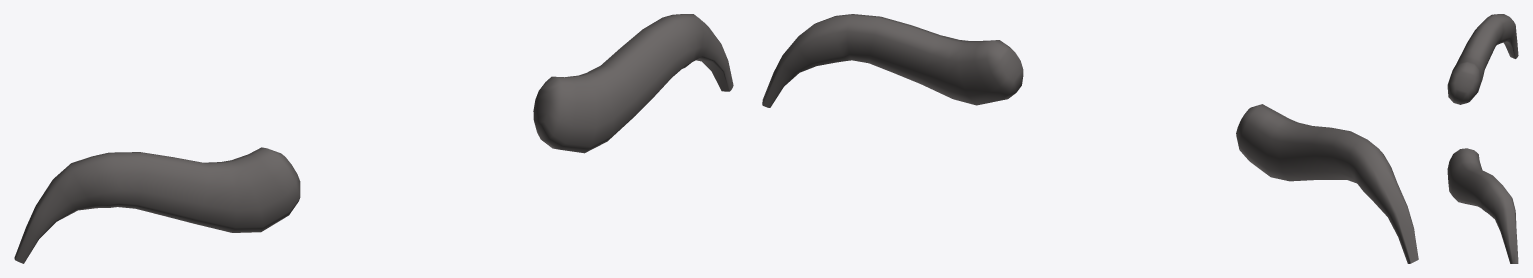
The model's file is Eyebrows_28_04.fbx.
The picture shows the model from 3 angles, left to right: view 1: azimuth 30°, elevation 25°; view 2: azimuth 150°, elevation 25°; view 3: azimuth 270°, elevation 25°; orthographic projection. The views are drawn at different scales.
Parts seen in each view (by area): view 1: Eyebrows_28_04; view 2: Eyebrows_28_04; view 3: Eyebrows_28_04.
Boxes of the visible parts, box(x1,y1,x2,y2) form: Eyebrows_28_04: box(14, 14, 733, 263); Eyebrows_28_04: box(762, 14, 1418, 263); Eyebrows_28_04: box(1447, 14, 1518, 263).
Bounding box in the file's own units: 18.81 × 2.62 × 2.68.
